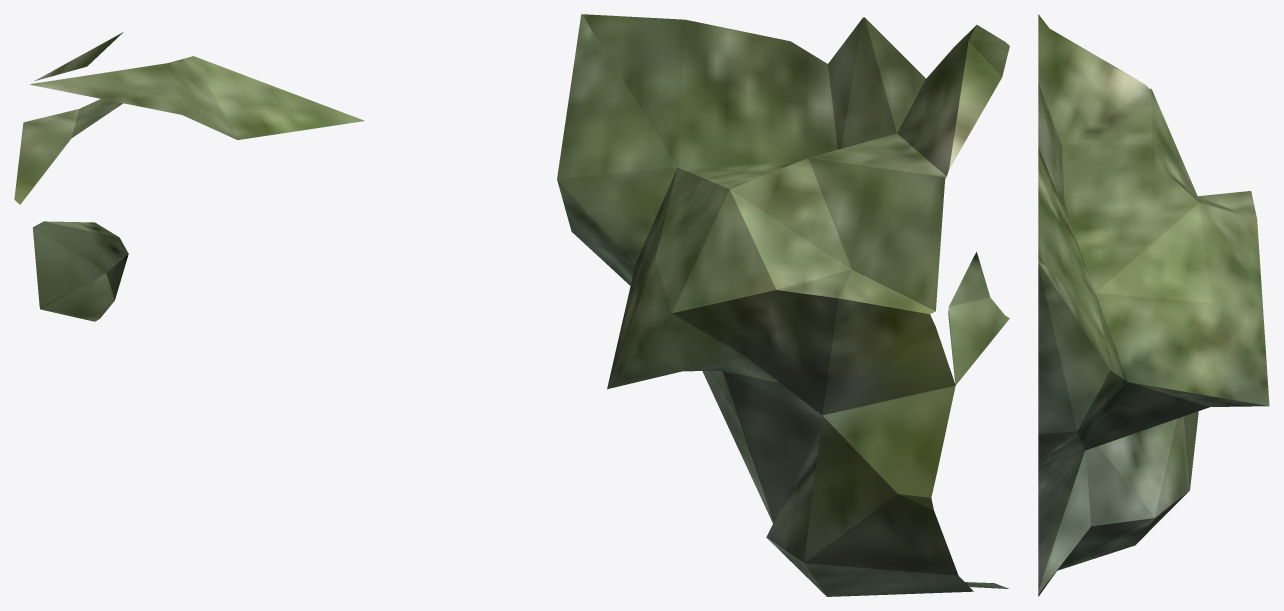
3 renders of one model, left to right at view 1: azimuth 30°, elevation 25°; view 2: azimuth 150°, elevation 25°; view 3: azimuth 270°, elevation 25°, orthographic. The views are drawn at different scales.
Size of the model in its own units: 0.943 by 1.24 by 0.501.
1 material, 1 textured.
